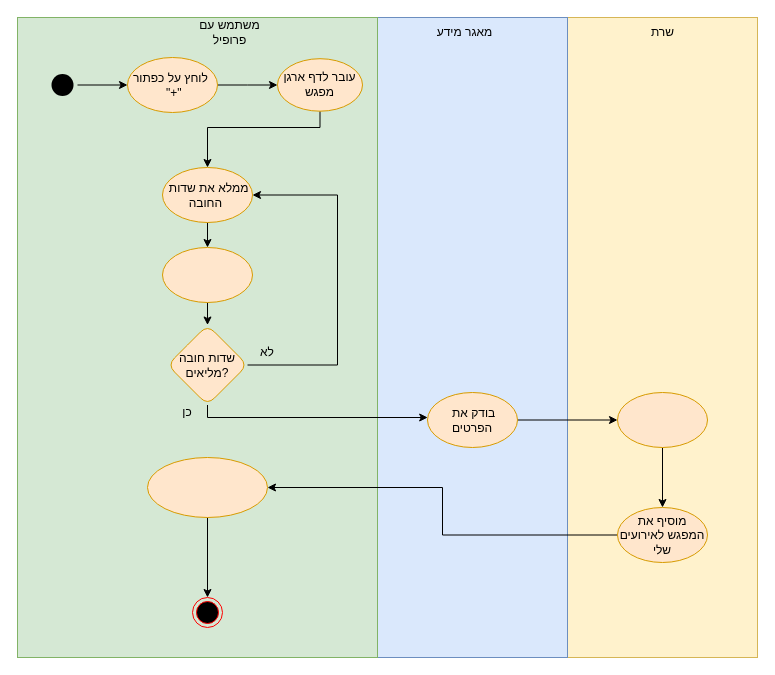
Image size: 775x675. Some labels were removed from this diagram. Here are the shapes that lost their labels. From the top down, the centre of each, then its label:
At point (207, 274): "לוחץ על כפתור ארגן מפגש".
At point (662, 420): "מוסיף את המפגש לדף המפגשים".
At point (207, 487): "עובר למסך מפגשים".
